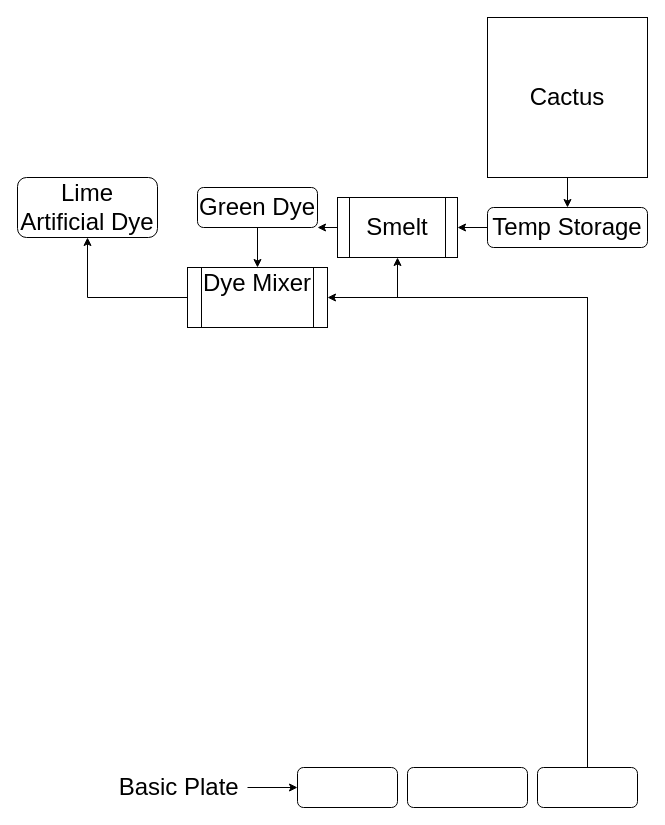
The diagram is 665 pixels wide and 825 high, and some of its shapes have lost their labels. The centre of each missing label's shape, as x and y in pixels:
"Energy" goes at point (587, 787).
"Output" goes at point (347, 787).
"Sunflower" goes at point (467, 787).
